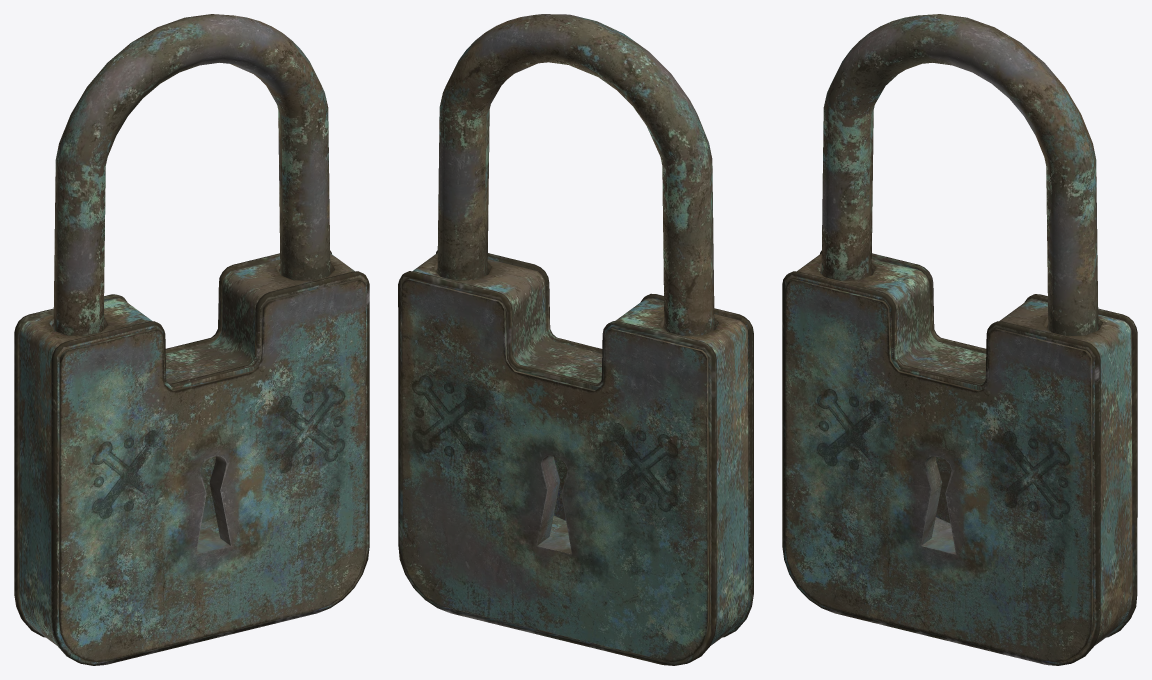
File: lock-and-key.glb
3 renders of one model, left to right at view 1: azimuth 30°, elevation 25°; view 2: azimuth 150°, elevation 25°; view 3: azimuth 330°, elevation 25°, orthographic.
Visible parts, largest first — view 1: Boole; view 2: Boole; view 3: Boole.
Boxes of the visible parts, bbox=[...] form: Boole: bbox=[14, 14, 369, 665]; Boole: bbox=[398, 14, 753, 665]; Boole: bbox=[782, 14, 1137, 665].
Size of the model in its own units: 0.2068 by 0.3787 by 0.0487.
1 material, 1 textured.
